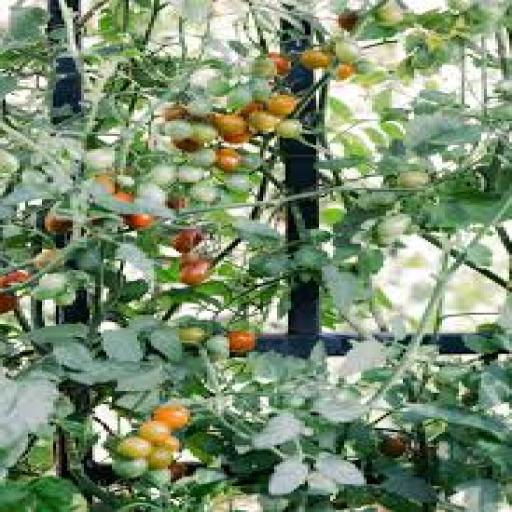tomato: (375, 215, 411, 243), (154, 405, 190, 430), (115, 436, 153, 458), (171, 228, 204, 253), (241, 79, 271, 106), (375, 0, 405, 27), (138, 421, 170, 444), (266, 95, 299, 117), (213, 114, 246, 135), (84, 148, 114, 171), (112, 459, 148, 478), (250, 112, 282, 132), (227, 332, 257, 353), (227, 86, 254, 109), (333, 40, 360, 63), (138, 183, 167, 204), (300, 49, 332, 68), (149, 164, 176, 186), (191, 123, 218, 145), (146, 447, 173, 469), (381, 436, 408, 458), (31, 250, 61, 269), (166, 120, 193, 141), (191, 183, 218, 204), (45, 213, 72, 234), (216, 148, 240, 171), (205, 336, 229, 359), (177, 164, 204, 184), (40, 274, 67, 294), (250, 58, 276, 78), (188, 148, 215, 167), (398, 172, 430, 188), (0, 149, 19, 175), (124, 213, 153, 230), (180, 326, 207, 344), (269, 53, 290, 76), (188, 97, 212, 117), (0, 270, 30, 286), (275, 120, 302, 137), (224, 174, 251, 191), (93, 174, 117, 193), (146, 468, 170, 487), (171, 138, 201, 152), (208, 77, 229, 96), (339, 10, 358, 31), (168, 462, 190, 480), (157, 436, 181, 452), (241, 101, 265, 117), (163, 105, 187, 121), (224, 131, 251, 145), (180, 252, 201, 268), (241, 153, 262, 169), (336, 64, 355, 80), (0, 295, 16, 314), (168, 196, 187, 210), (496, 79, 511, 96), (118, 174, 134, 188), (112, 192, 134, 202)
